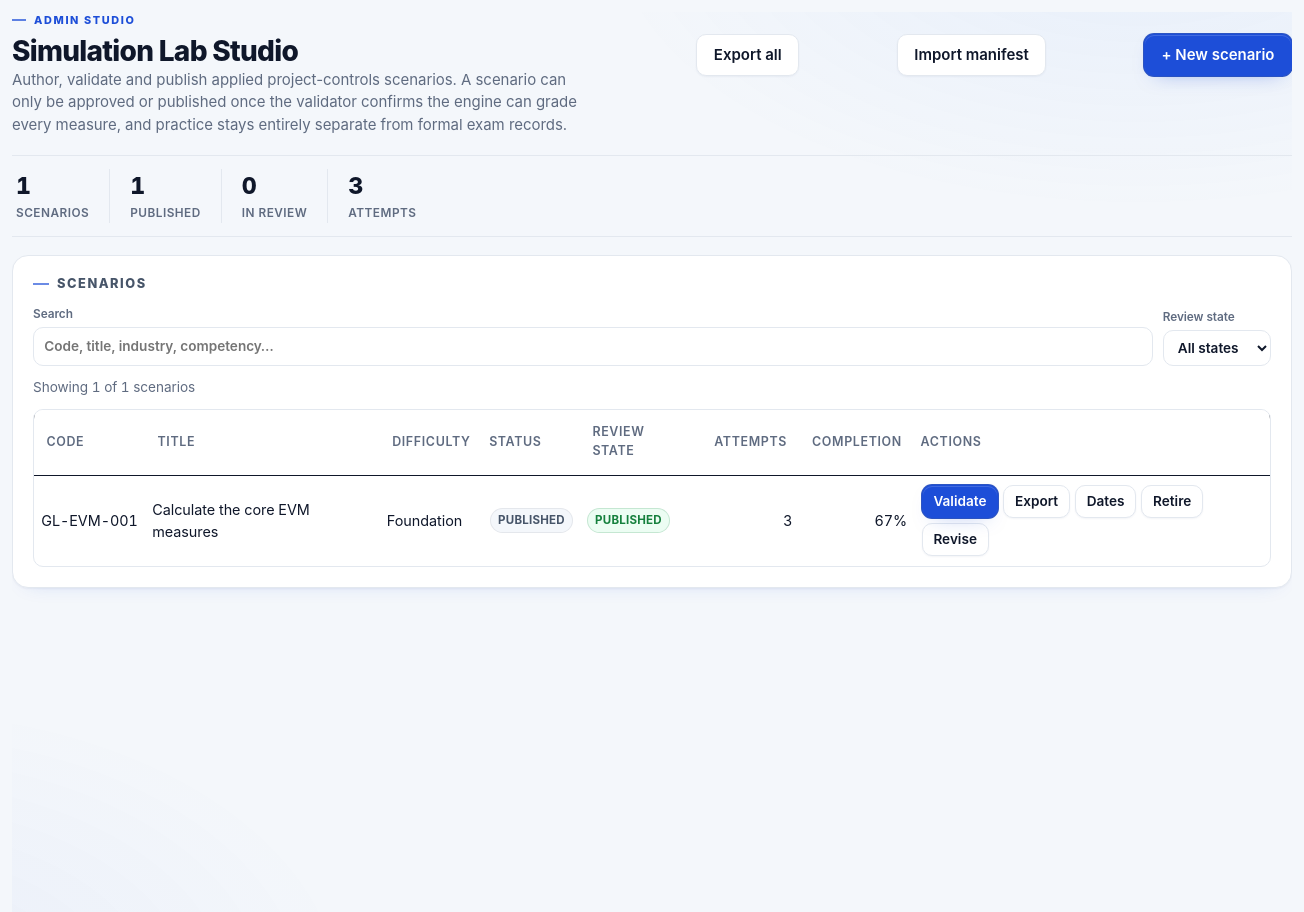
Test case: Admin SimLab Studio › validates a scenario on demand and shows the verdict
Click the button "Validate" at (960, 502), box [922,485,998,518]
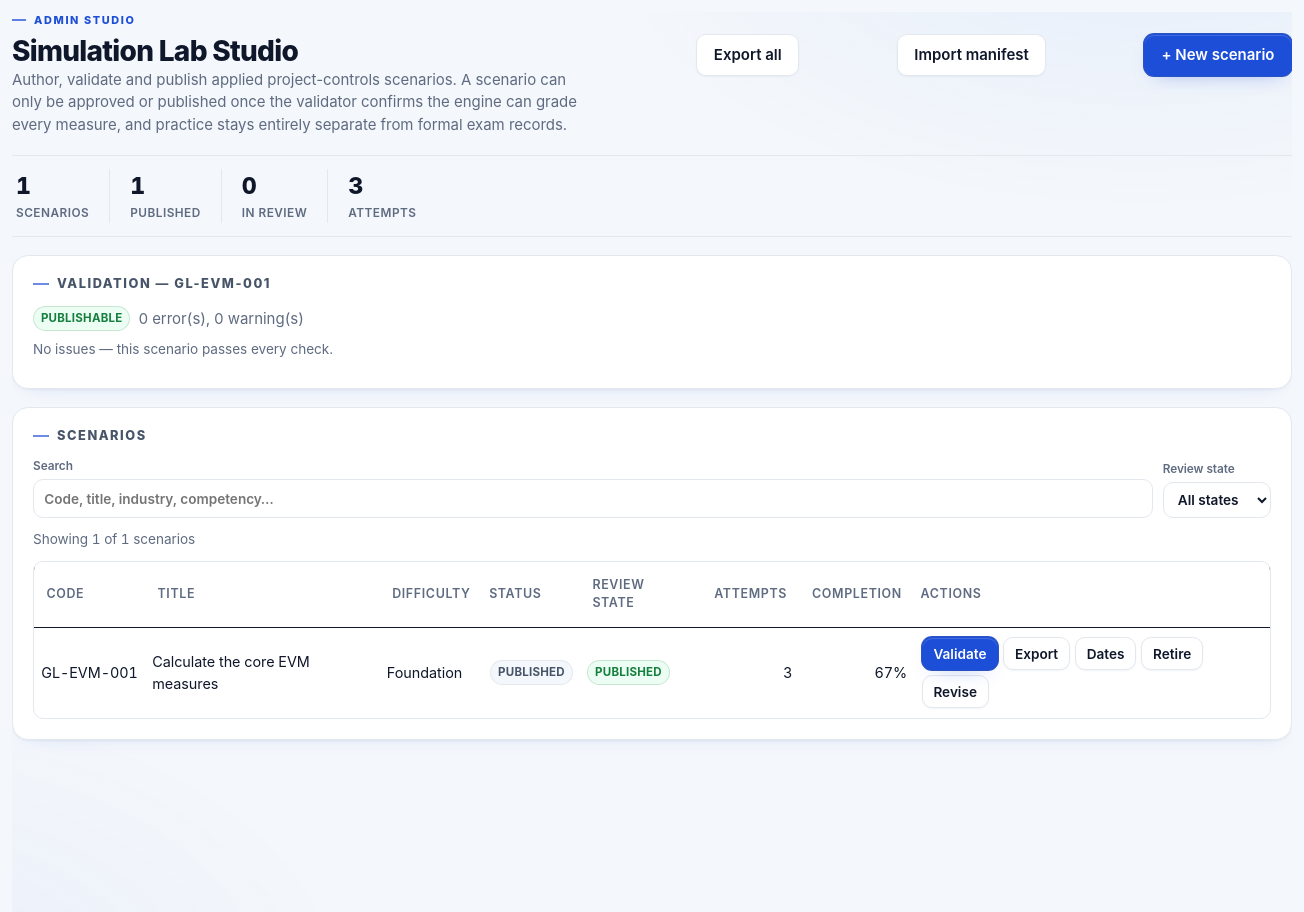
Now the text "Publishable" is shown, box [33,306,130,331]
